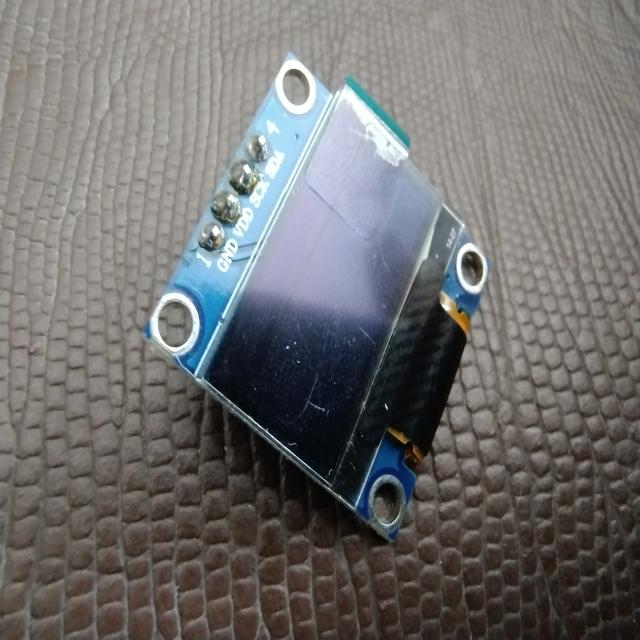oled: (144, 45, 503, 555)
